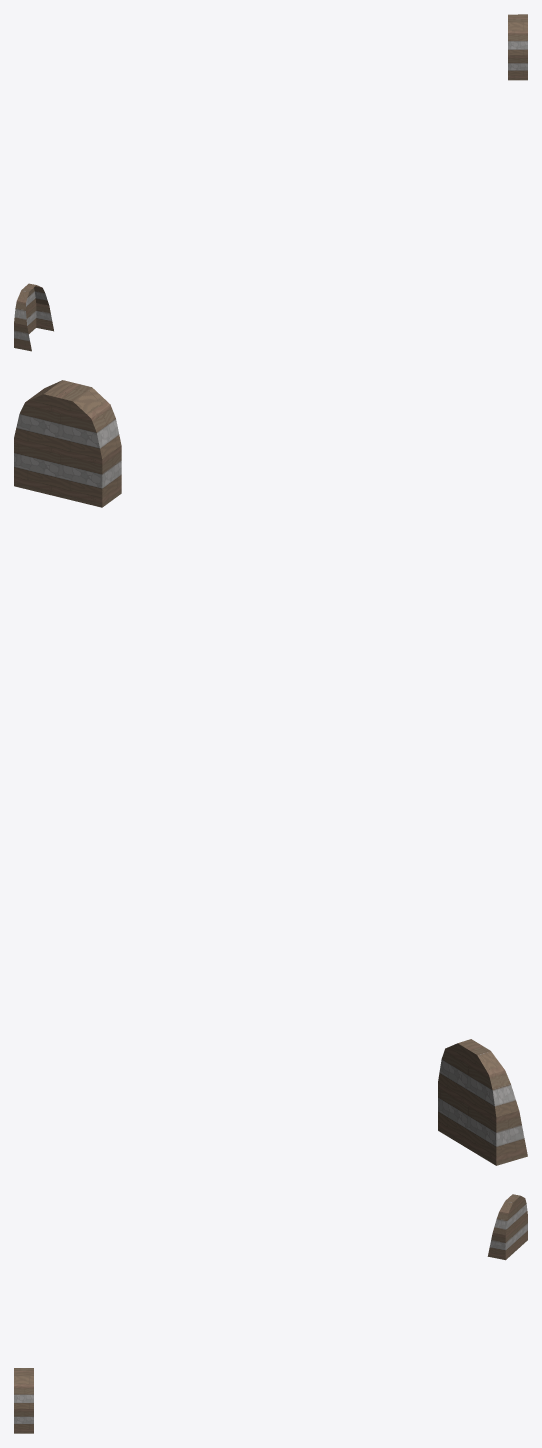
The model's file is kd_connection_world-inner_surface_19_21.glb.
3 renders of one model, top to bottom at view 1: azimuth 90°, elevation 25°; view 2: azimuth 150°, elevation 25°; view 3: azimuth 270°, elevation 25°, orthographic. The views are drawn at different scales.
Visible parts, largest first — view 1: kd_connection_world-inner_surface_19_21; view 2: kd_connection_world-inner_surface_19_21; view 3: kd_connection_world-inner_surface_19_21.
Part boxes in pixels (bbox=[...]): kd_connection_world-inner_surface_19_21: bbox=[14, 14, 527, 351]; kd_connection_world-inner_surface_19_21: bbox=[14, 380, 527, 1165]; kd_connection_world-inner_surface_19_21: bbox=[14, 1194, 527, 1433].
Size of the model in its own units: 43.58 by 8.21 by 38.6.
Materials: 1 (1 with a texture image).
